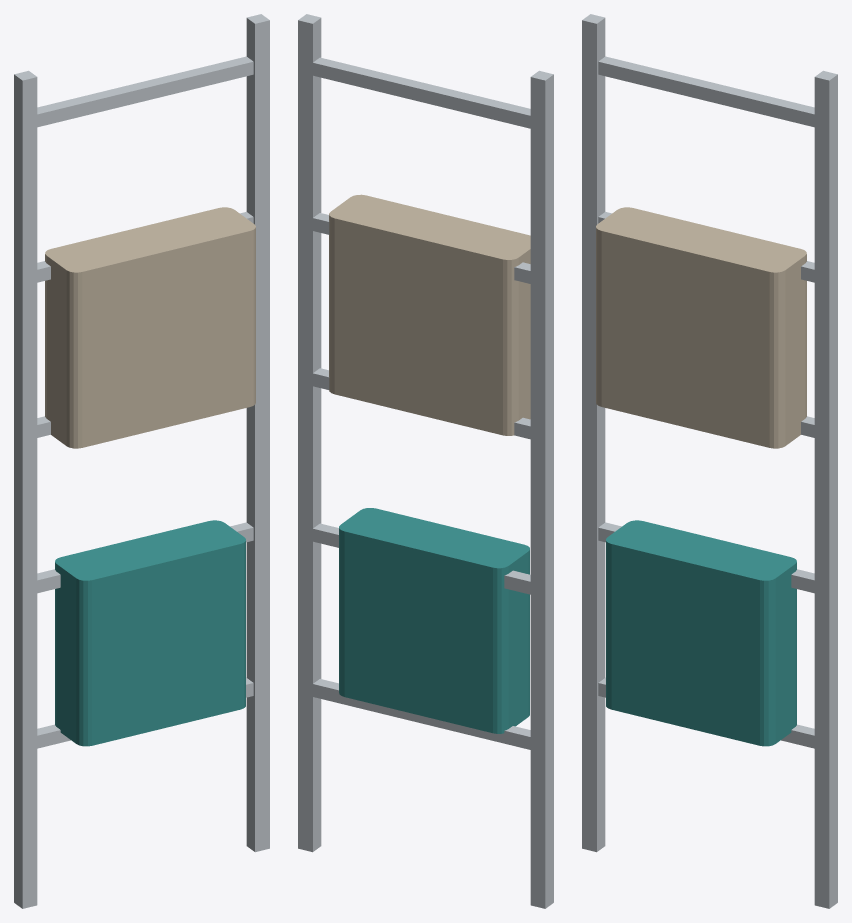
The model's file is towel_rack.glb.
3 renders of one model, left to right at view 1: azimuth 30°, elevation 25°; view 2: azimuth 150°, elevation 25°; view 3: azimuth 330°, elevation 25°, orthographic.
Parts seen in each view (by area): view 1: towel_rack_Body; view 2: towel_rack_Body; view 3: towel_rack_Body.
Part boxes in pixels (<box>): towel_rack_Body: <box>14,14,269,908</box>; towel_rack_Body: <box>298,14,553,908</box>; towel_rack_Body: <box>582,14,837,908</box>.
Size of the model in its own units: 0.5 by 1.6 by 0.11.
